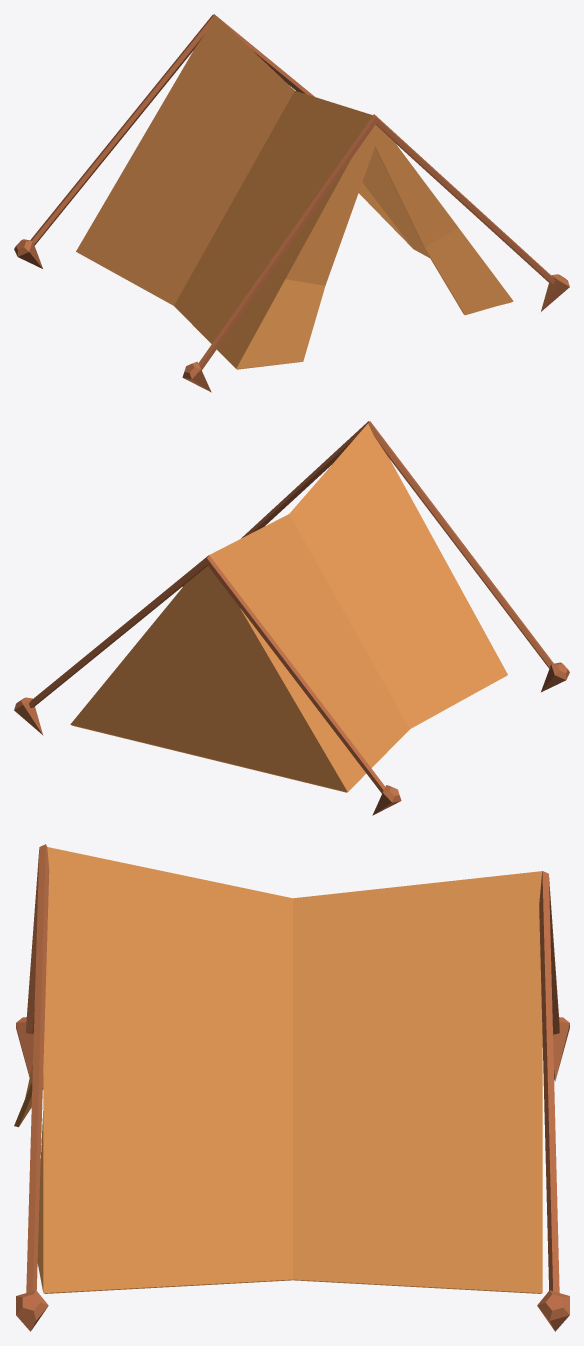
Rendered from Tent.glb.
3 views of the same model, one above another, from view 1: azimuth 30°, elevation 25°; view 2: azimuth 150°, elevation 25°; view 3: azimuth 270°, elevation 25° (orthographic). The views are drawn at different scales.
Visible parts, largest first — view 1: Tent_Cube.001; view 2: Tent_Cube.001; view 3: Tent_Cube.001.
Part boxes in pixels (x1=…): Tent_Cube.001: x1=14, y1=14, x2=569, y2=392; Tent_Cube.001: x1=14, y1=421, x2=569, y2=815; Tent_Cube.001: x1=14, y1=844, x2=569, y2=1331.
Bounding box in the file's own units: 2.21 × 1.29 × 1.78.
